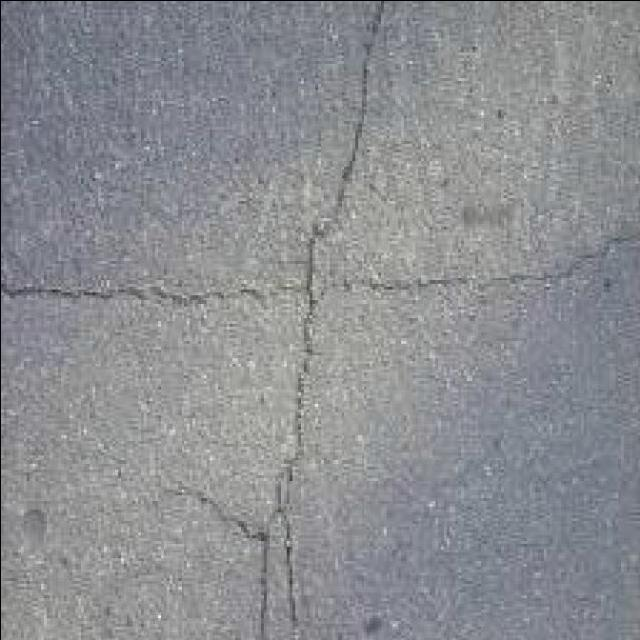SurfaceCrack: (238, 0, 442, 640)
